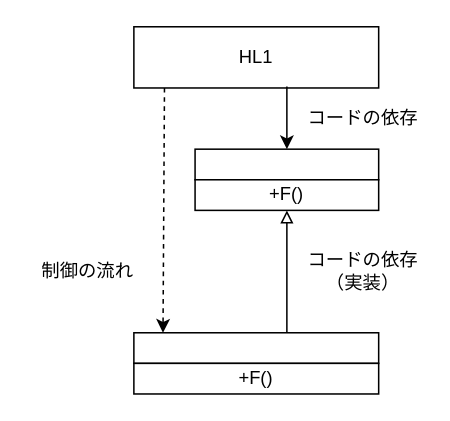
Some shapes in this 450 by 421 pixel diagram are drawn without their labels. The shapes that lost their labels are listed below. From the top down, each one's centre as x and y in pixels, then its label:
At point (286, 164): "<I> I".
At point (255, 347): "ML1".
